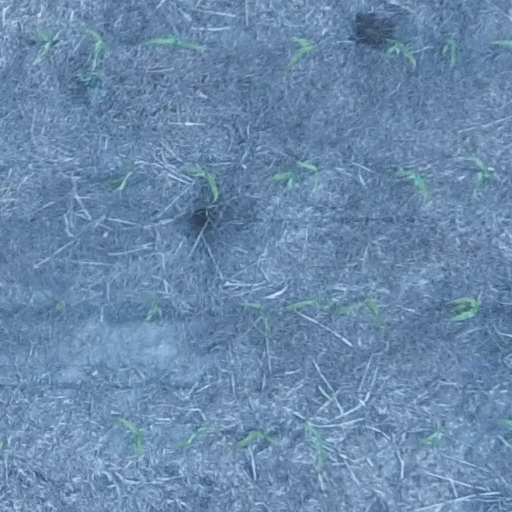planta: (330, 292, 385, 329), (182, 165, 218, 200), (83, 25, 109, 73), (300, 421, 326, 467), (145, 31, 204, 51), (284, 35, 315, 72), (395, 169, 431, 200), (115, 417, 143, 455), (284, 292, 334, 312), (233, 429, 279, 450), (448, 295, 481, 322), (386, 39, 417, 67), (173, 425, 208, 447), (471, 154, 494, 187), (267, 167, 299, 188), (35, 24, 54, 58), (103, 170, 132, 192), (249, 300, 270, 329), (417, 423, 442, 447), (139, 296, 160, 323), (296, 158, 320, 180), (442, 39, 458, 66)
